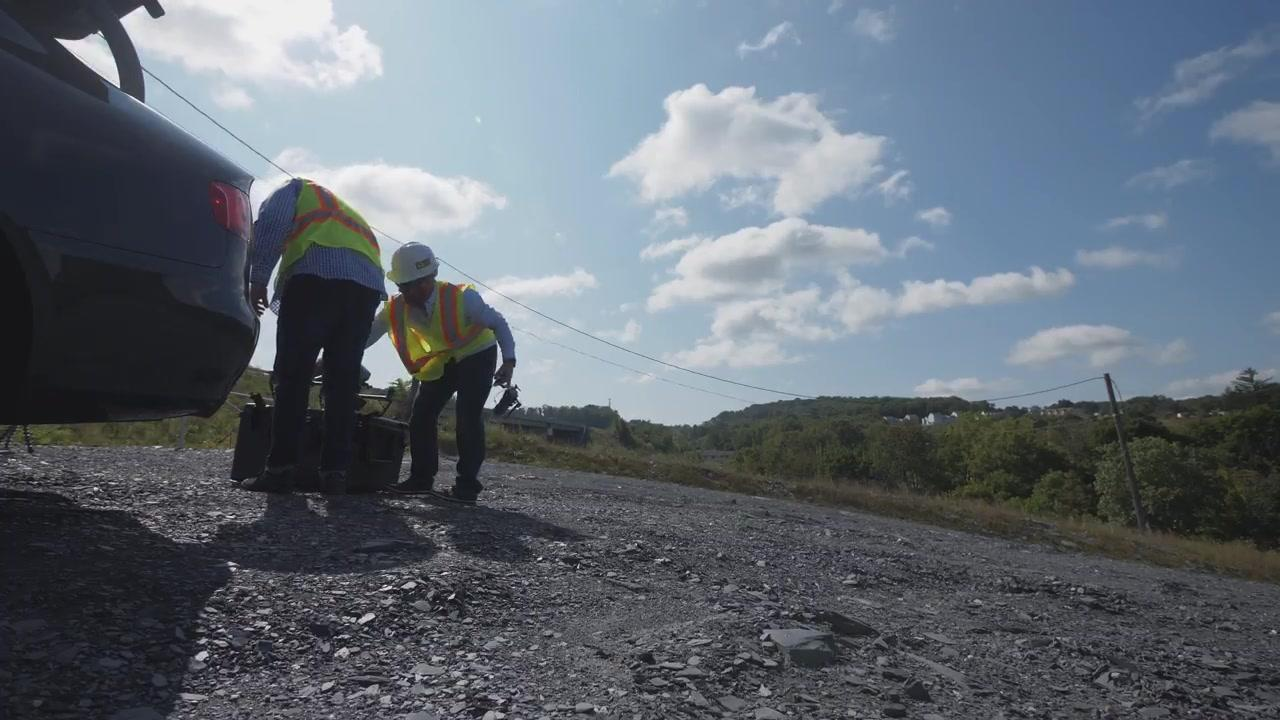vest: (271, 176, 382, 295), (384, 279, 498, 387)
